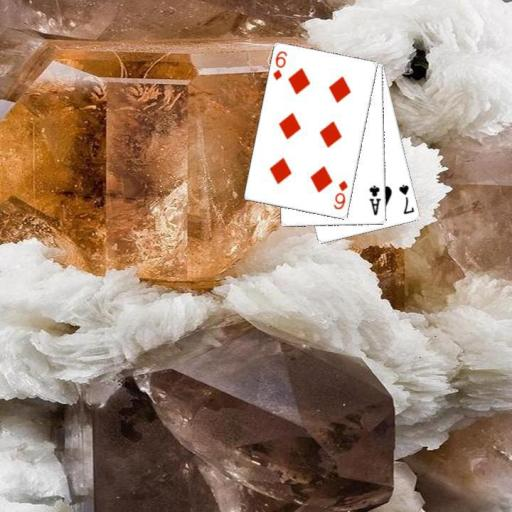6D: (270, 48, 289, 82), (331, 178, 349, 211)
7S: (396, 182, 416, 217)
AC: (366, 183, 383, 217)
